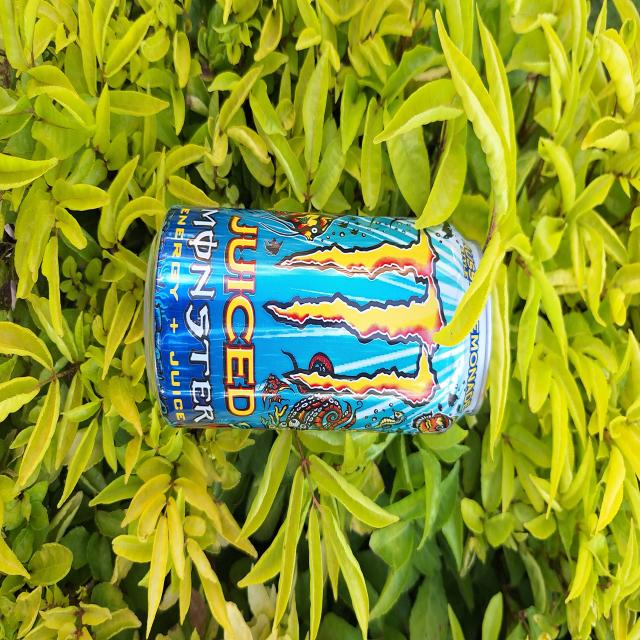Monster Aussie Lemonade: (147, 207, 488, 430)
